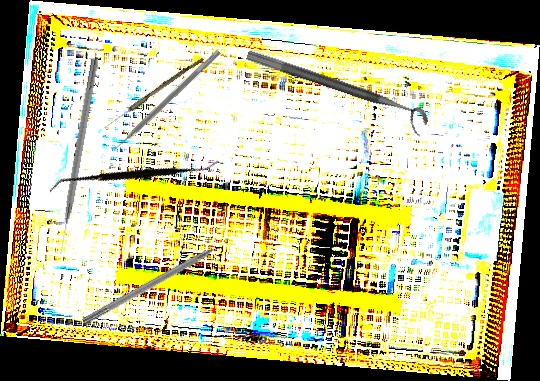Fixation Ring: (240, 48, 432, 138)
Hook Surgical: (81, 235, 236, 327), (55, 57, 100, 255)
Spatula Surgical: (47, 95, 221, 257), (107, 44, 222, 155)
Surgical Spoon: (102, 55, 205, 131)
